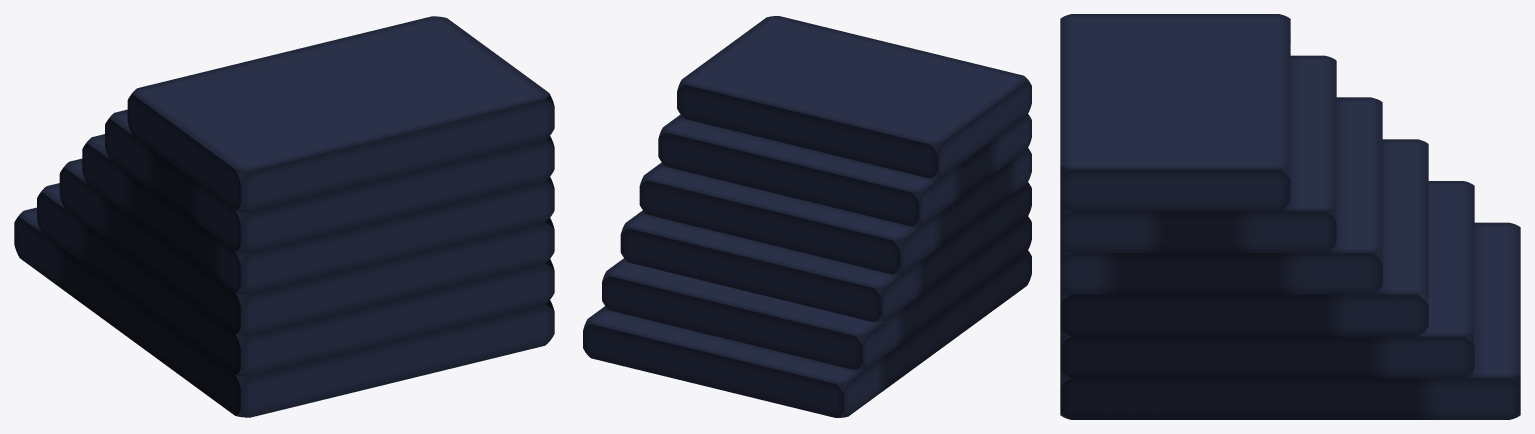
File: escaleras.fbx
The picture shows the model from 3 angles, left to right: view 1: azimuth 30°, elevation 25°; view 2: azimuth 150°, elevation 25°; view 3: azimuth 270°, elevation 25°; orthographic projection. The views are drawn at different scales.
Visible parts, largest first — view 1: group; view 2: group; view 3: group.
Part boxes in pixels (x1,y1,x2,y2): group: [14, 16, 554, 417]; group: [583, 16, 1031, 417]; group: [1060, 14, 1520, 419].
Size of the model in its own units: 50 by 37.5 by 62.5.
1 material, 1 textured.
